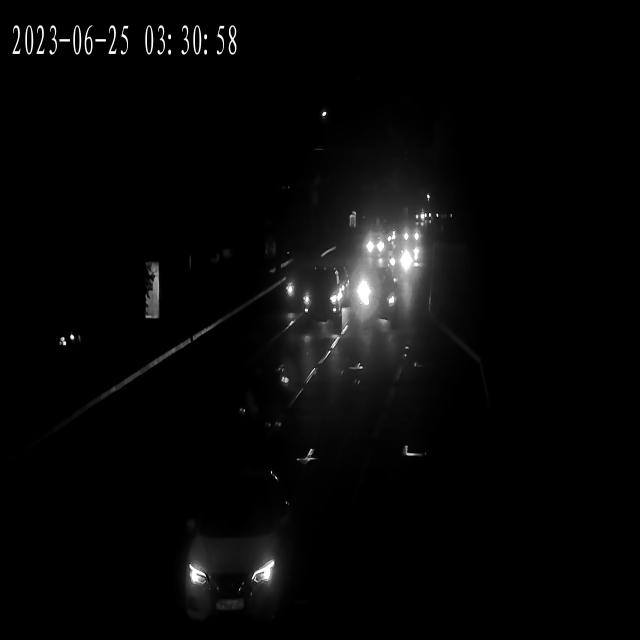Car: (186, 455, 294, 635), (342, 265, 408, 318), (284, 268, 347, 319), (384, 247, 416, 275), (361, 233, 389, 258), (396, 225, 421, 244), (398, 228, 423, 246), (414, 212, 428, 224)
